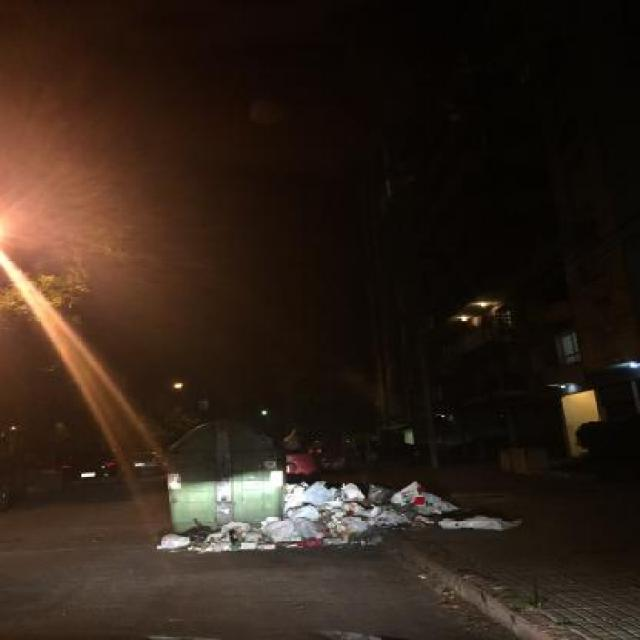garbage: (154, 478, 503, 560)
